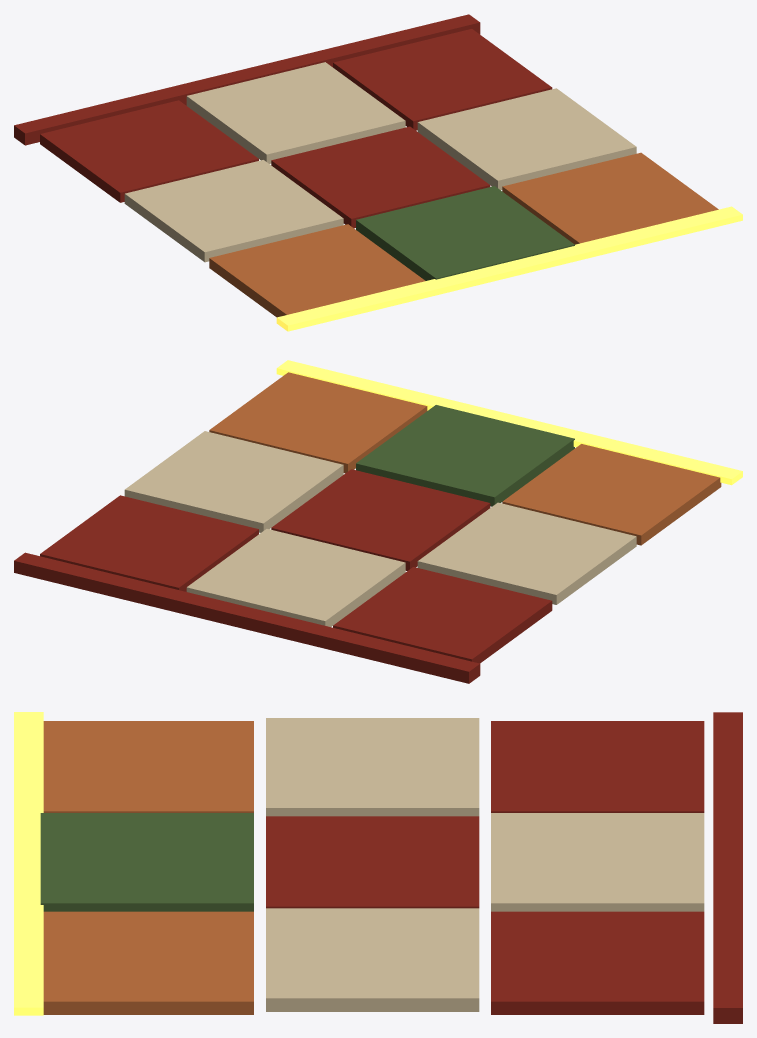
Rendered from wren_quilt.glb.
The picture shows the model from 3 angles, top to bottom: view 1: azimuth 30°, elevation 25°; view 2: azimuth 150°, elevation 25°; view 3: azimuth 270°, elevation 25°; orthographic projection. The views are drawn at different scales.
Visible parts, largest first — view 1: wren_quilt; view 2: wren_quilt; view 3: wren_quilt.
Boxes of the visible parts, bbox=[...] form: wren_quilt: bbox=[14, 14, 742, 331]; wren_quilt: bbox=[14, 360, 742, 683]; wren_quilt: bbox=[14, 712, 742, 1023].
Size of the model in its own units: 1.18 by 0.0335 by 1.23.
